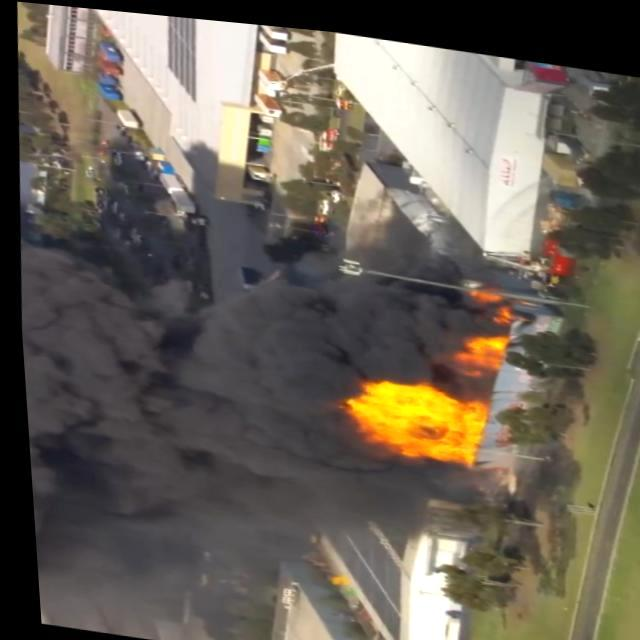fire: (327, 358, 506, 478), (444, 307, 512, 365)
